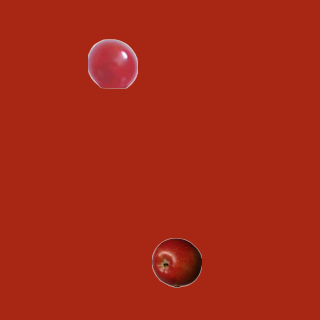Apple Braeburn: (151, 237, 201, 287)
Redcurrant: (87, 38, 137, 88)
